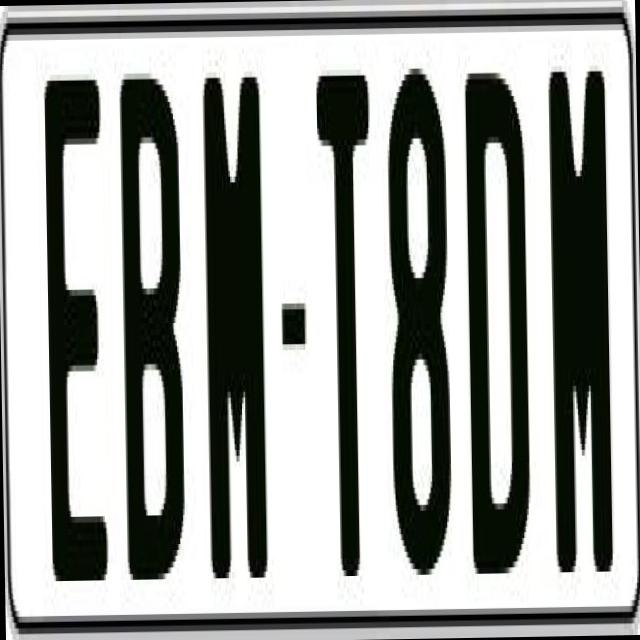8: (383, 62, 451, 569)
B: (120, 78, 188, 597)
D: (462, 60, 536, 591)
E: (40, 67, 104, 598)
M: (200, 70, 276, 602), (548, 70, 621, 602)
T: (310, 57, 376, 576)
